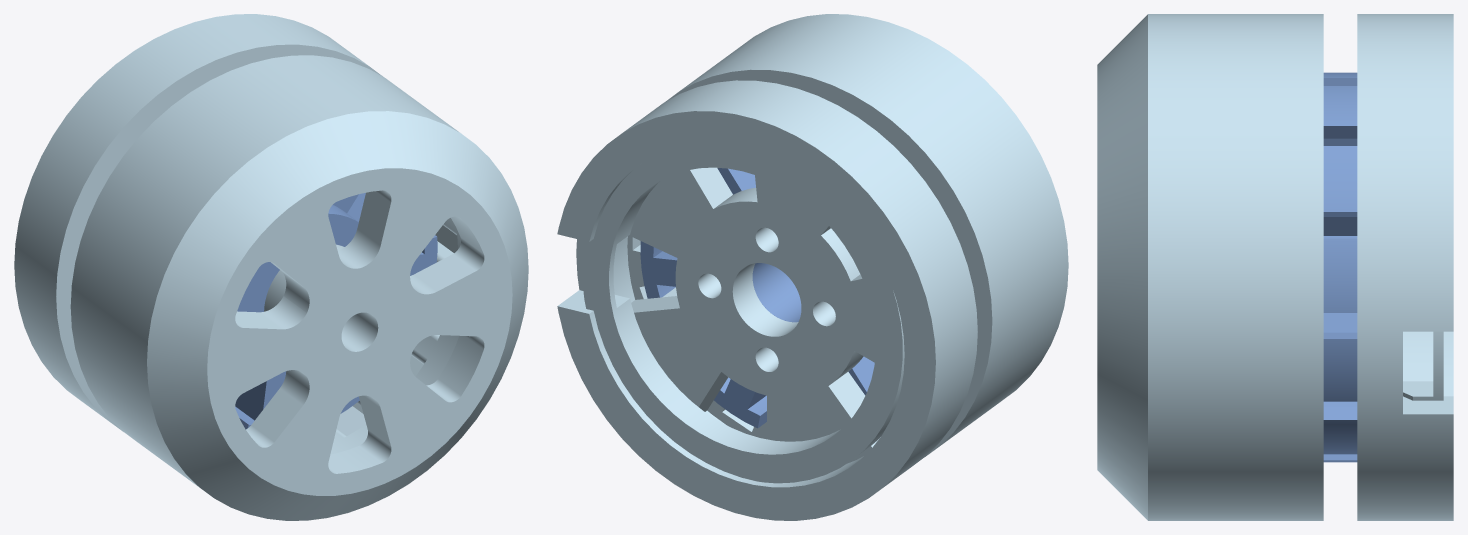
File: bldc-motor.gltf
3 renders of one model, left to right at view 1: azimuth 30°, elevation 25°; view 2: azimuth 150°, elevation 25°; view 3: azimuth 270°, elevation 25°, orthographic. The views are drawn at different scales.
Parts seen in each view (by area): view 1: Part 1 (×3); view 2: Part 1 (×4); view 3: Part 1 (×4).
Boxes of the visible parts, <box> form: Part 1 (×3): <box>14,14,528,520</box>; Part 1 (×4): <box>557,14,1068,520</box>; Part 1 (×4): <box>1097,14,1453,520</box>.
Bounding box in the file's own units: 0.05 × 0.0499 × 0.0351.
